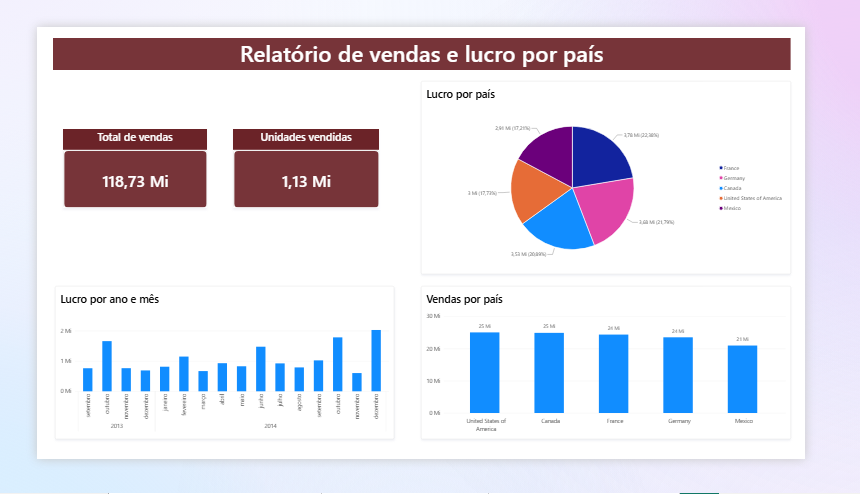

The dashboard page shown, as its layout file describes it:
{"tool":"powerbi","page":{"name":"Vendas e lucro por país","canvas":[1920,1080],"ordinal":1},"visuals":[{"type":"textbox","title":"Relatório de vendas e lucro por país","box":[40,28,1844,80],"z":3000},{"type":"cardVisual","title":"Total de vendas","fields":{"Data":["Sum(financials. Sales)"]},"box":[65,255,360,197.5],"z":3001},{"type":"cardVisual","title":"Unidades vendidas","fields":{"Data":["Sum(financials.Units Sold)"]},"box":[490,255,365,197.5],"z":3002},{"type":"pieChart","title":"Lucro por país","fields":{"Category":["financials.Country"],"Y":["Sum(financials.Profit)"]},"box":[960,135,925,482.5],"z":3003},{"type":"lineClusteredColumnComboChart","title":"Lucro por ano e mês","fields":{"Category":["financials.Date.Variation.Hierarquia de datas.Ano","financials.Date.Variation.Hierarquia de datas.Mês"],"Y":["Sum(financials.Profit)"]},"box":[45,647.5,847.5,382.5],"z":3004},{"type":"lineClusteredColumnComboChart","title":"Vendas por país","fields":{"Category":["financials.Country"],"Y":["Sum(financials. Sales)"]},"box":[960,647.5,925,382.5],"z":3005}]}

Visuals, with their boxes in screenshot pixels (x1, y1, x2, y2), scaled from the page's 1920x1080 canvas onto the 860x494 screenshot:
"Relatório de vendas e lucro por país" textbox: 18,13,844,49
"Total de vendas" cardVisual: 29,117,190,207
"Unidades vendidas" cardVisual: 219,117,383,207
"Lucro por país" pieChart: 430,62,844,282
"Lucro por ano e mês" lineClusteredColumnComboChart: 20,296,400,471
"Vendas por país" lineClusteredColumnComboChart: 430,296,844,471
